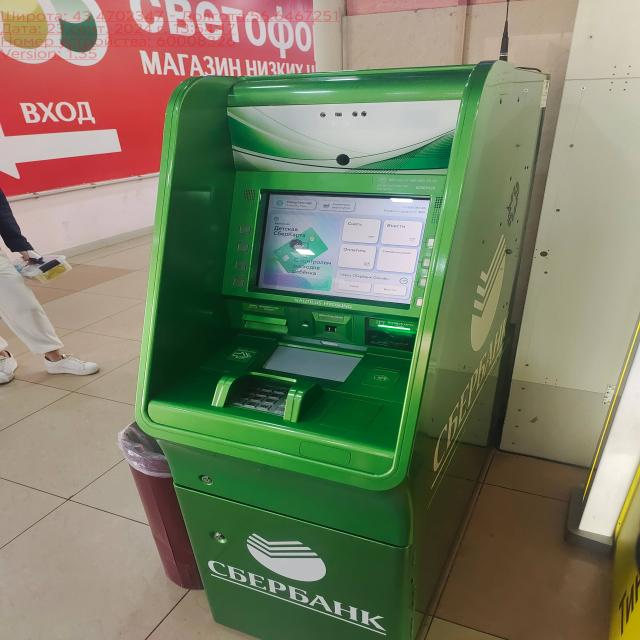bank: (138, 62, 551, 640)
